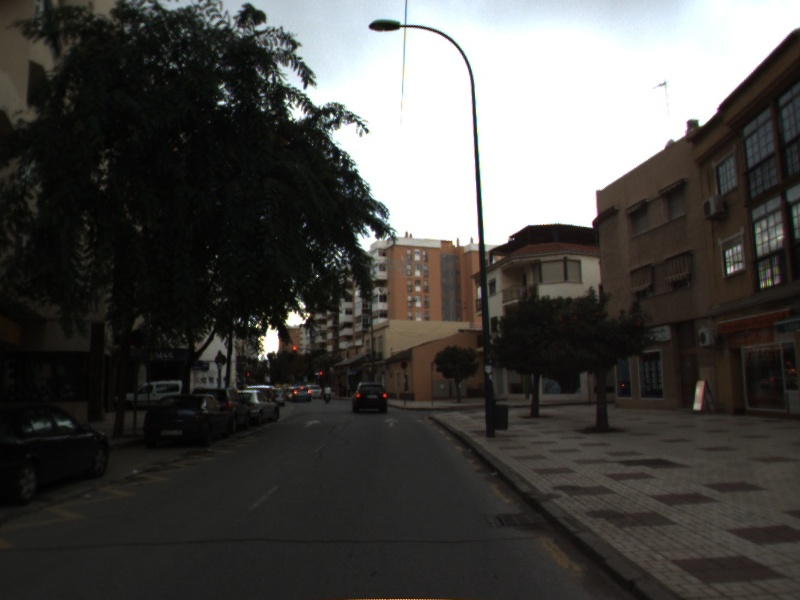STRAIGHT: (381, 415, 402, 430), (302, 417, 323, 430)
